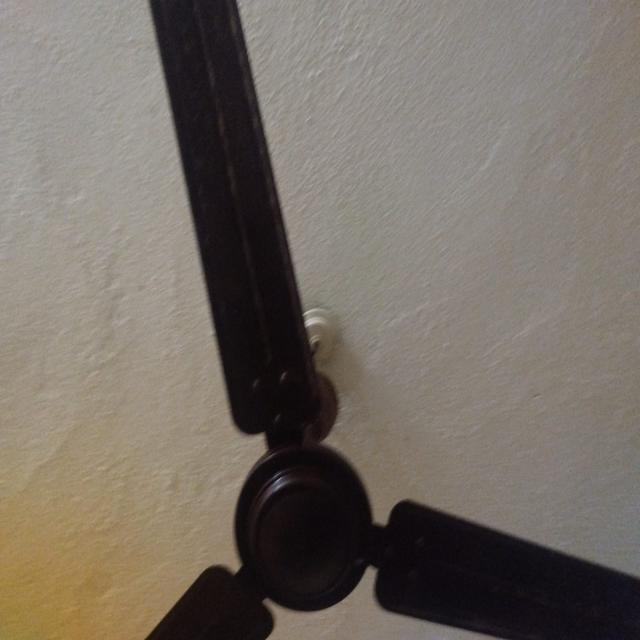fan_off: (150, 0, 640, 640)
